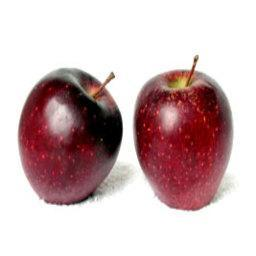apple: (15, 66, 123, 205), (135, 64, 232, 212)
